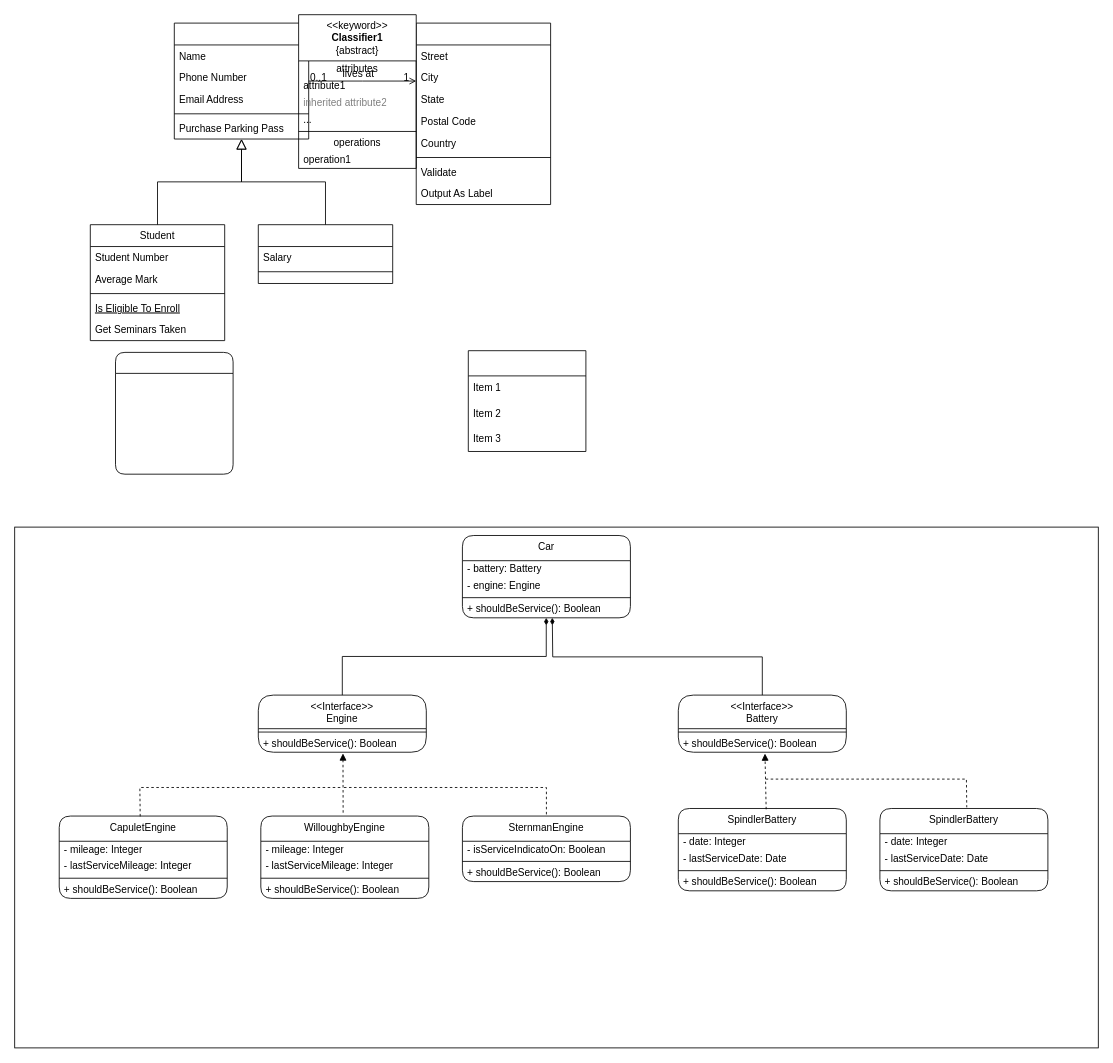
Some shapes in this 1113 by 1063 pixel diagram are drawn without their labels. The box of each missing label's shape, as (x1, y1, x2, y2) in pixels:
Address: (415, 22, 551, 205)
List: (467, 350, 586, 452)
Person: (173, 22, 309, 139)
Professor: (257, 224, 393, 284)
sdsd: (115, 352, 233, 474)
